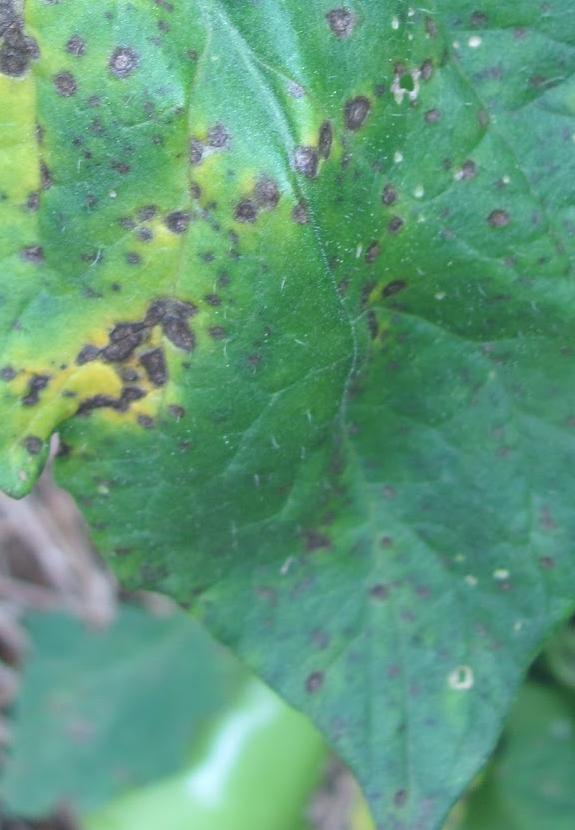Tomato Septoria leaf spot: (0, 0, 575, 777)
